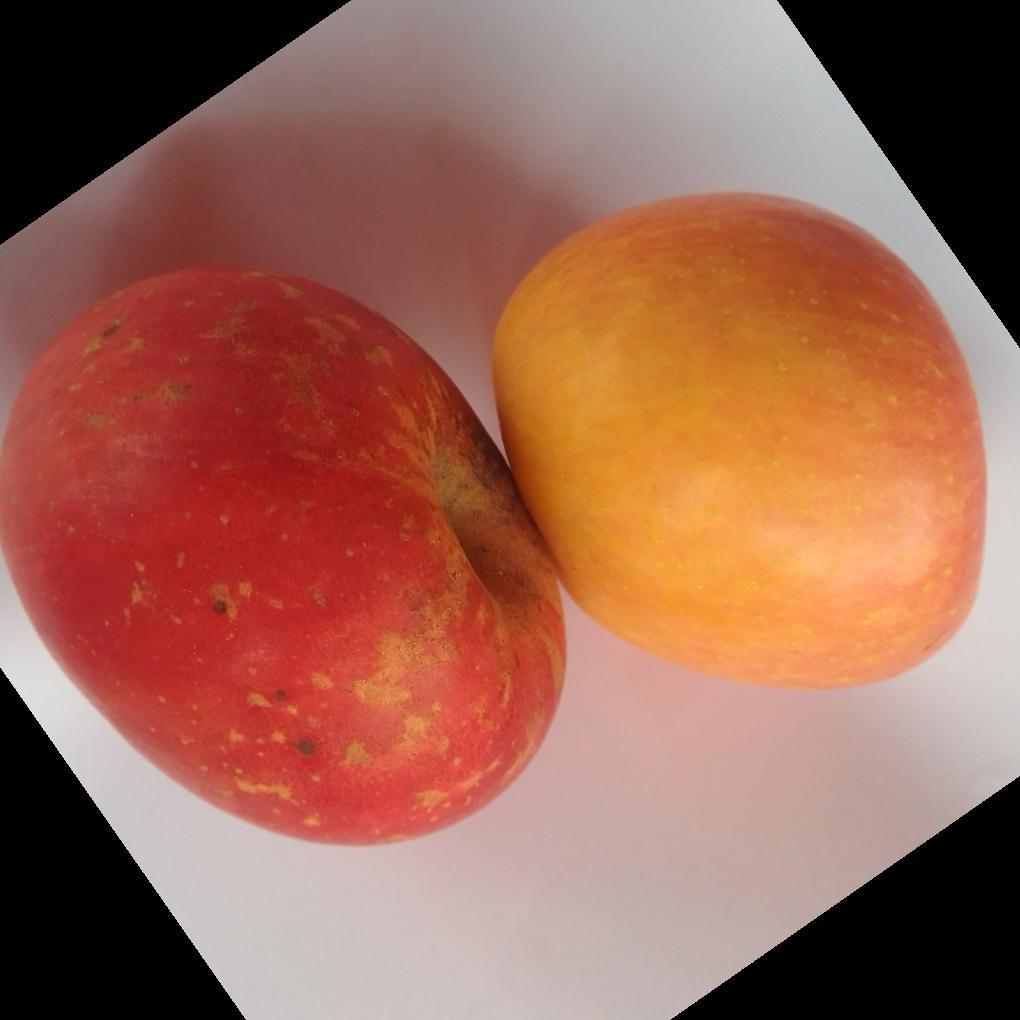FreshGuava: (0, 193, 988, 852)
